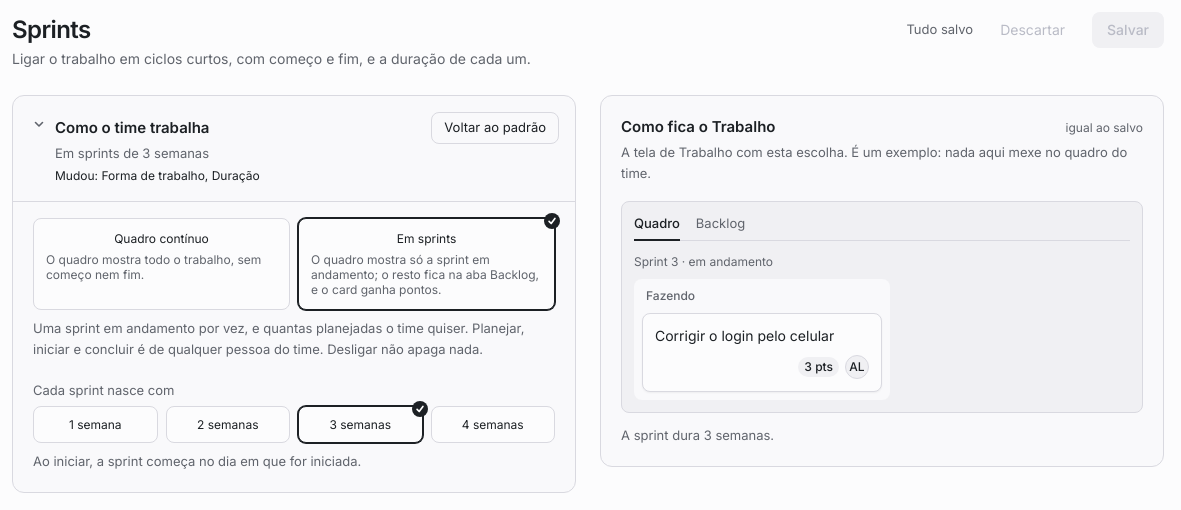
Test: SprintSettingsScreen › o resumo do grupo diz a escolha em palavras, e "Voltar ao padrão" volta ao contínuo
Expected: the text "Em sprints de 3 semanas" is shown, [55, 145, 209, 161]
Step 1. Click the button "Voltar ao padrão" → {"x": 495, "y": 128}, box [431, 112, 559, 144]
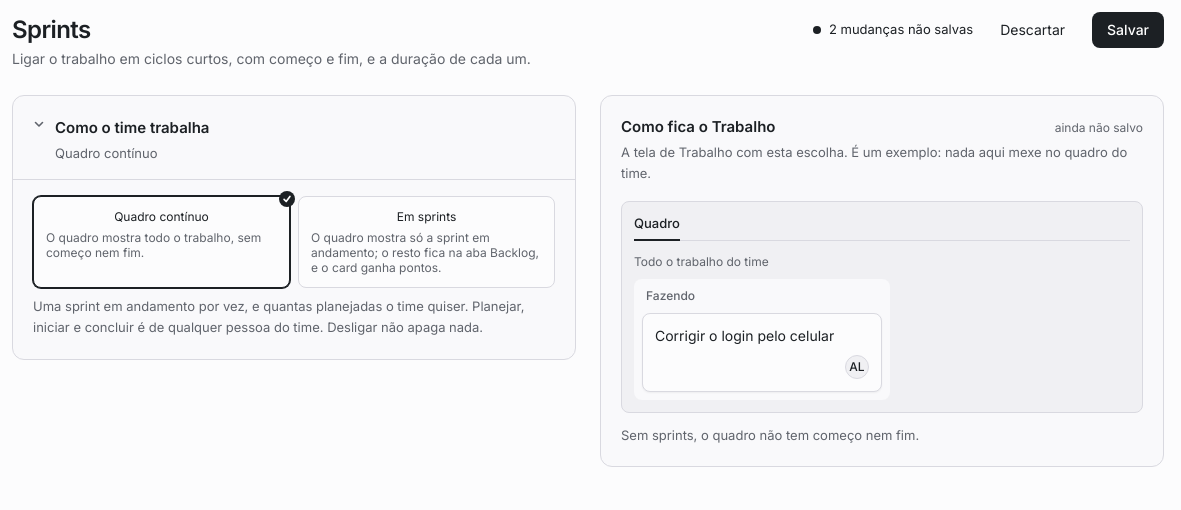
Result: the radio button labelled "Quadro contínuo" is checked at [34, 197, 289, 287]
Result: the button "Voltar ao padrão" is gone
